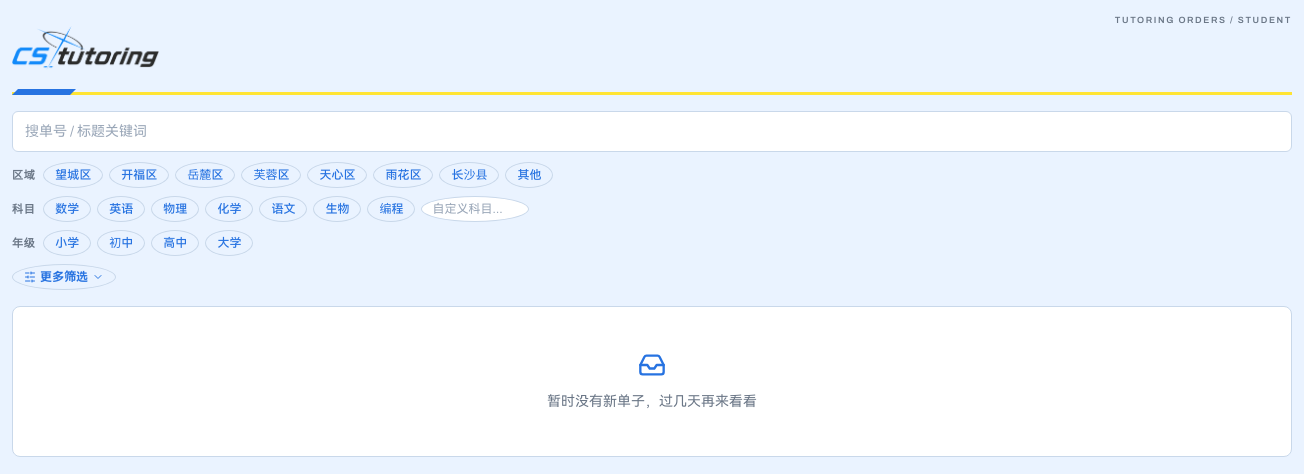
Test: TC-VIEW-014 搜索无结果空态（v0.5.0） › 搜索无结果显示搜索空态文案；清空搜索词恢复默认空态
Expected: the text "暂时没有新单子，过几天再来看看" is shown, 547,391 -> 757,412
Type "法语" into the search field labelled "搜单号 / 标题关键词" at (652, 132), box 12,111 -> 1292,152
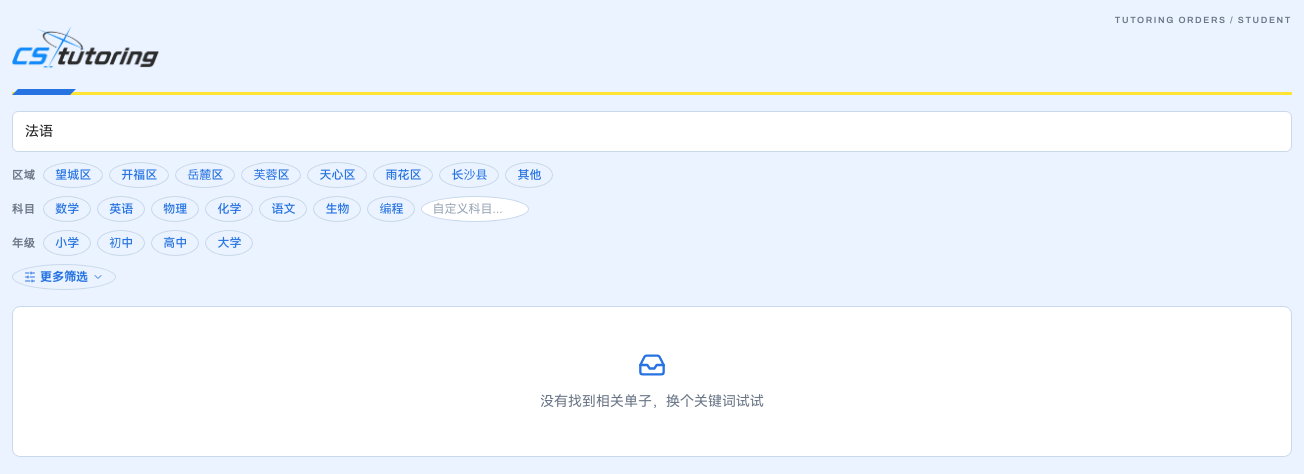
Expected: the text "没有找到相关单子，换个关键词试试" is shown, 540,391 -> 764,412
Expected: the text "暂时没有新单子，过几天再来看看" is gone
清空搜索词后恢复默认空态
Clear the search field named "搜单号" at (652, 132), box 12,111 -> 1292,152
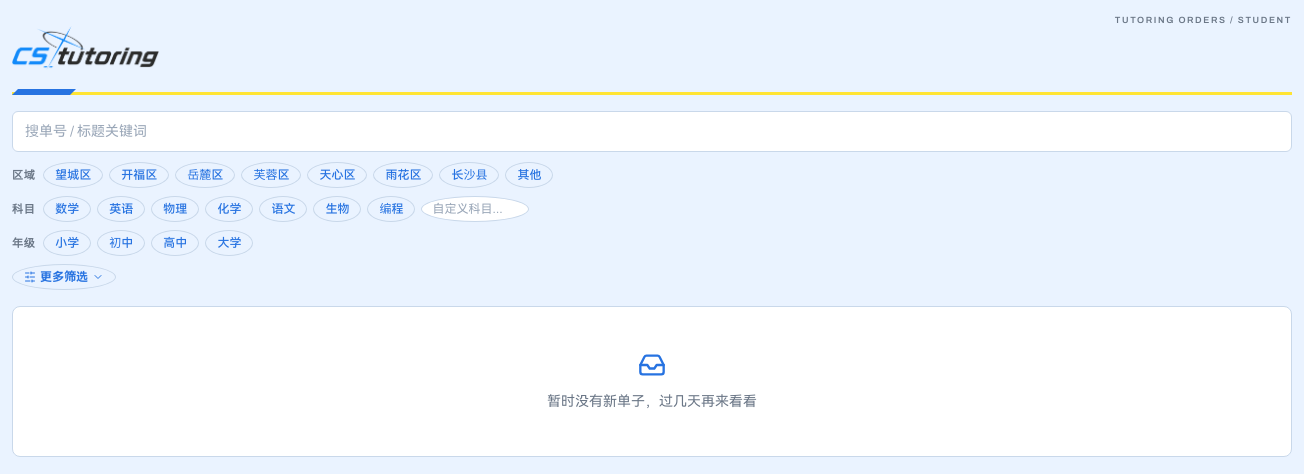
Expected: the text "暂时没有新单子，过几天再来看看" is shown, 547,391 -> 757,412
Expected: the text "没有找到相关单子，换个关键词试试" is gone
